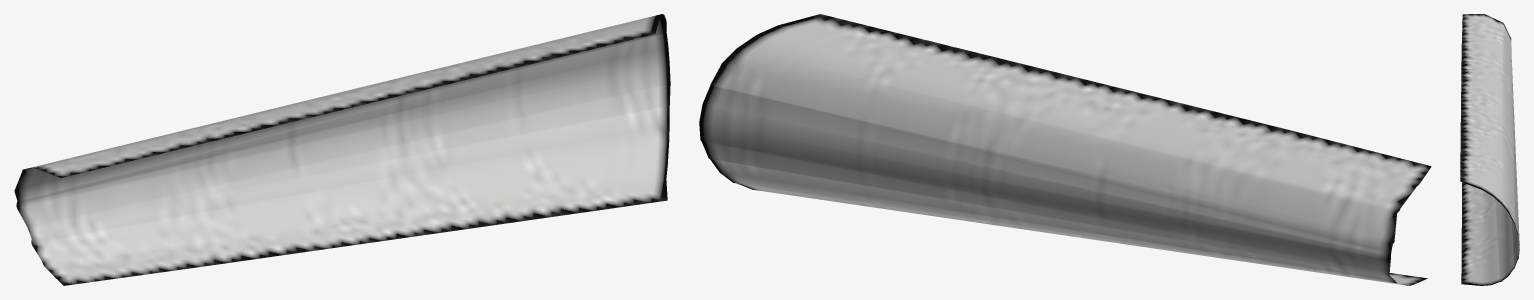
Rendered from leftInnerSlat.dae.
3 renders of one model, left to right at view 1: azimuth 30°, elevation 25°; view 2: azimuth 150°, elevation 25°; view 3: azimuth 270°, elevation 25°, orthographic. The views are drawn at different scales.
Visible parts, largest first — view 1: group_0; view 2: group_0; view 3: group_0.
Part boxes in pixels (x1,y1,x2,y2): group_0: (14,14,670,285); group_0: (699,14,1431,285); group_0: (1460,14,1519,285).
Bounding box in the file's own units: 133 × 17.85 × 32.66.
Materials: 1 (1 with a texture image).
